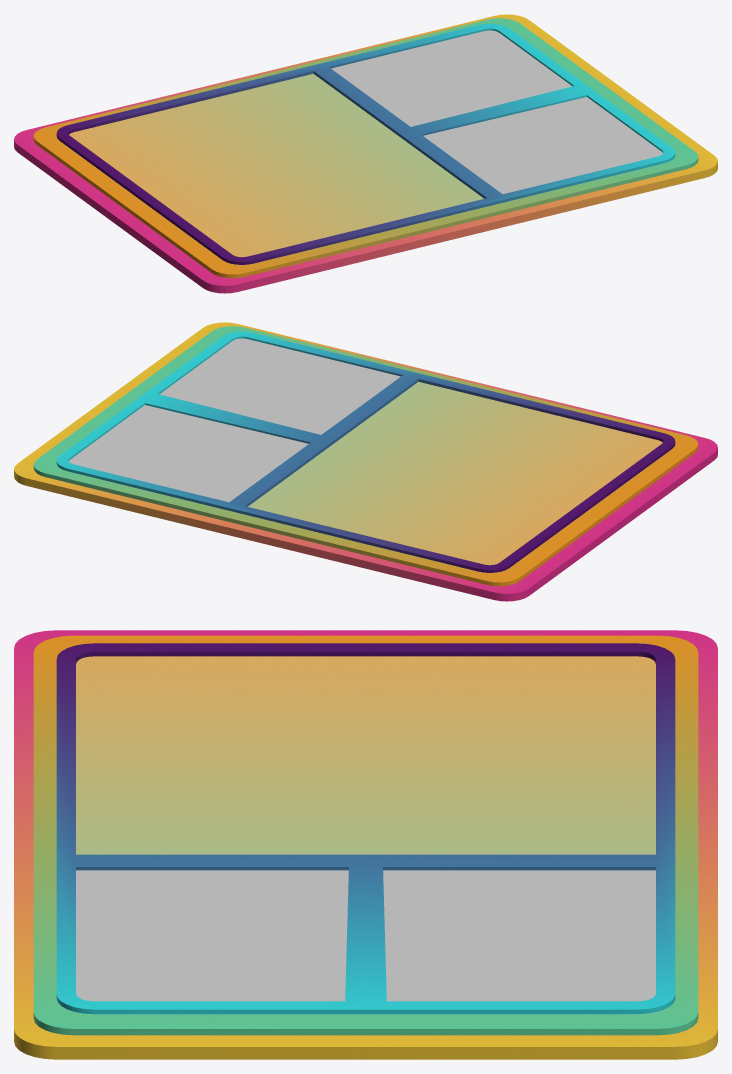
The model's file is Card Design - Weapon.fbx.
The picture shows the model from 3 angles, top to bottom: view 1: azimuth 30°, elevation 25°; view 2: azimuth 150°, elevation 25°; view 3: azimuth 270°, elevation 25°; orthographic projection. The views are drawn at different scales.
Parts seen in each view (by area): view 1: Card Inner Background, Card Background Art Holder, Card Art Holder, Card Art Sleeve, Card Outer Background; view 2: Card Inner Background, Card Background Art Holder, Card Art Holder, Card Art Sleeve, Card Outer Background; view 3: Card Inner Background, Card Background Art Holder, Card Art Holder, Card Art Sleeve, Card Outer Background.
Boxes of the visible parts, left/top/right/bottom form: Card Inner Background: left=33, top=18, right=698, bottom=278; Card Background Art Holder: left=69, top=74, right=483, bottom=256; Card Art Holder: left=331, top=30, right=663, bottom=194; Card Art Sleeve: left=56, top=23, right=675, bottom=264; Card Outer Background: left=14, top=14, right=717, bottom=293; Card Inner Background: left=33, top=326, right=698, bottom=586; Card Background Art Holder: left=248, top=382, right=662, bottom=564; Card Art Holder: left=68, top=338, right=400, bottom=502; Card Art Sleeve: left=56, top=331, right=675, bottom=572; Card Outer Background: left=14, top=322, right=717, bottom=601; Card Inner Background: left=33, top=635, right=698, bottom=1035; Card Background Art Holder: left=76, top=656, right=655, bottom=1014; Card Art Holder: left=76, top=870, right=655, bottom=1001; Card Art Sleeve: left=56, top=643, right=675, bottom=1014; Card Outer Background: left=14, top=630, right=717, bottom=1059.
Size of the model in its own units: 700 by 19.5 by 500.
